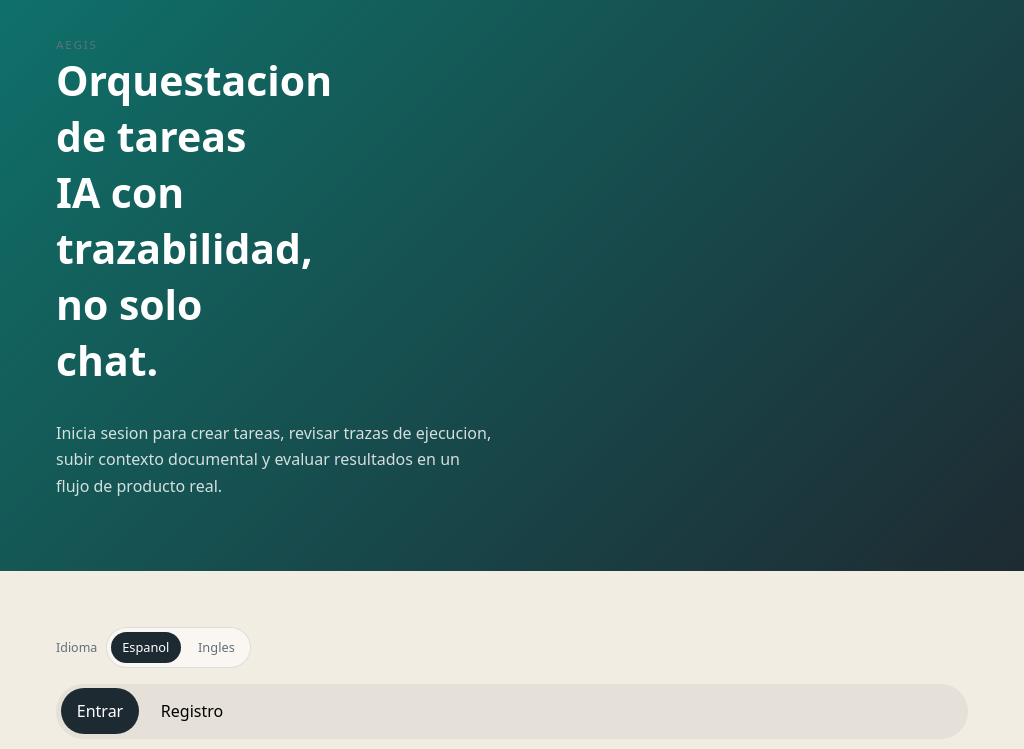
AuthPage › shows friendly validation errors for signup 422 responses
Click the button "Registro": x=192, y=711 top-left (145, 688), bottom-right (239, 734)
(page scrolled)
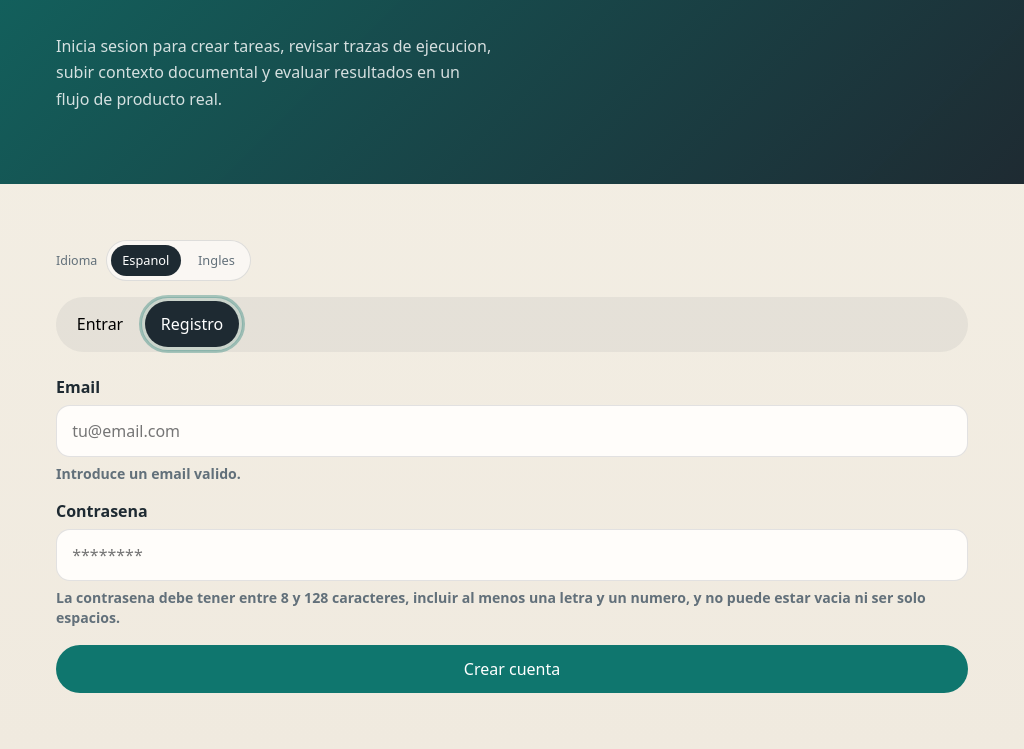
In the field labelled "Email Introduce un email valido.": x=512, y=431 top-left (56, 405), bottom-right (968, 457), type "valid@example.com"
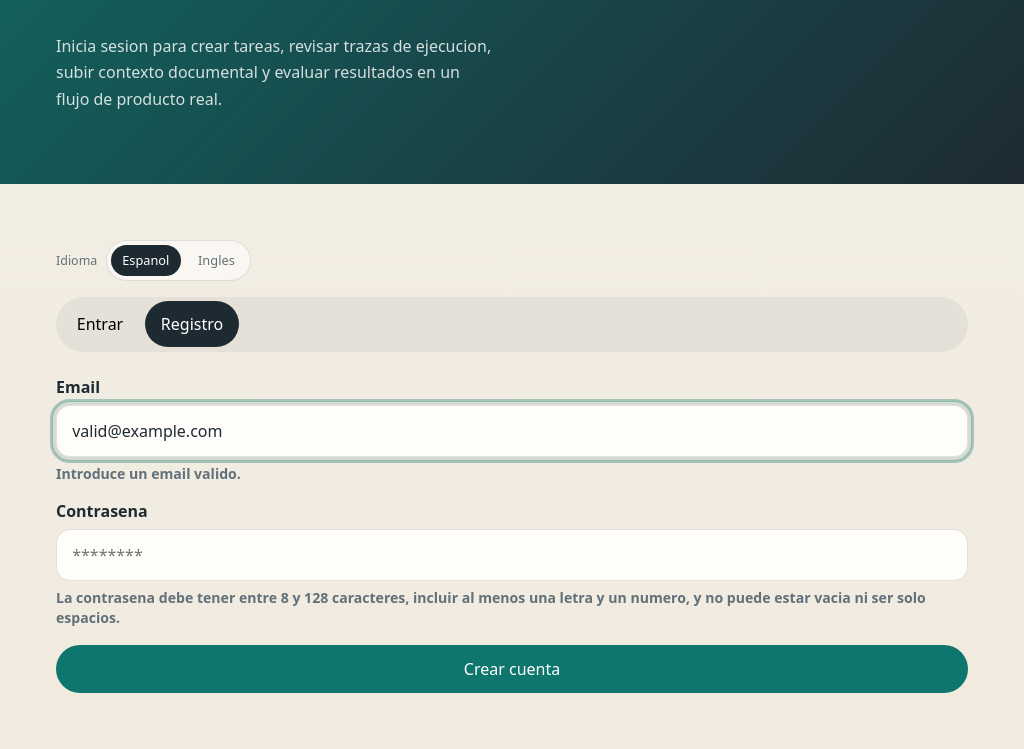
In the password field labelled "Contrasena": x=512, y=555 top-left (56, 529), bottom-right (968, 581), type "Valid1234"
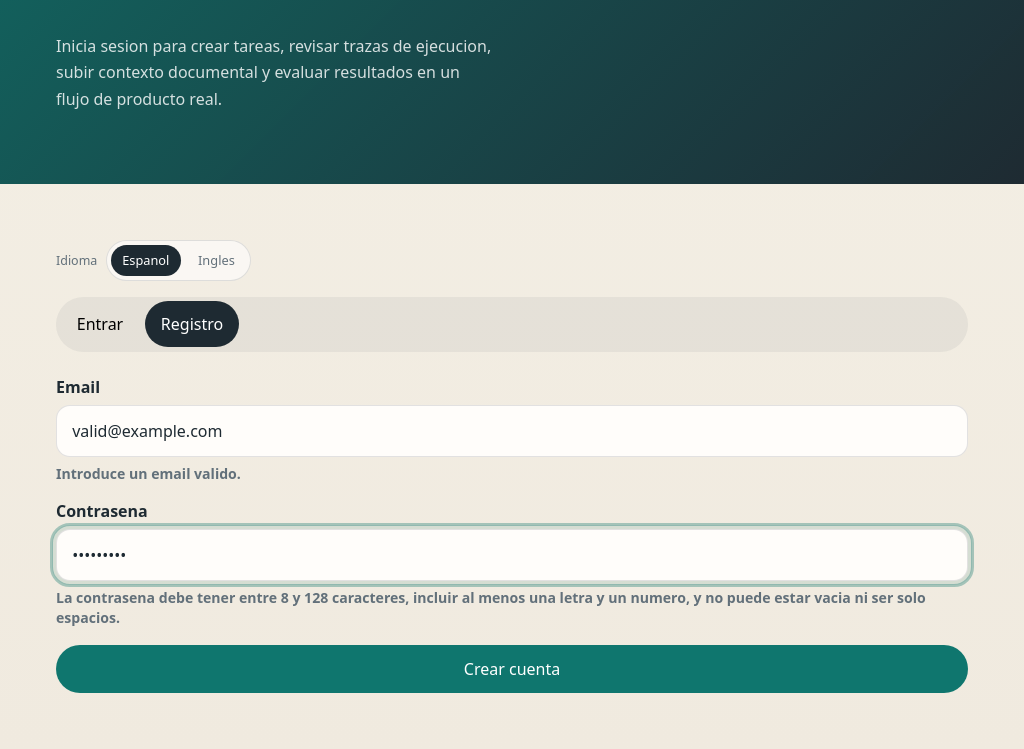
Click the button "Crear cuenta": x=512, y=669 top-left (56, 645), bottom-right (968, 693)
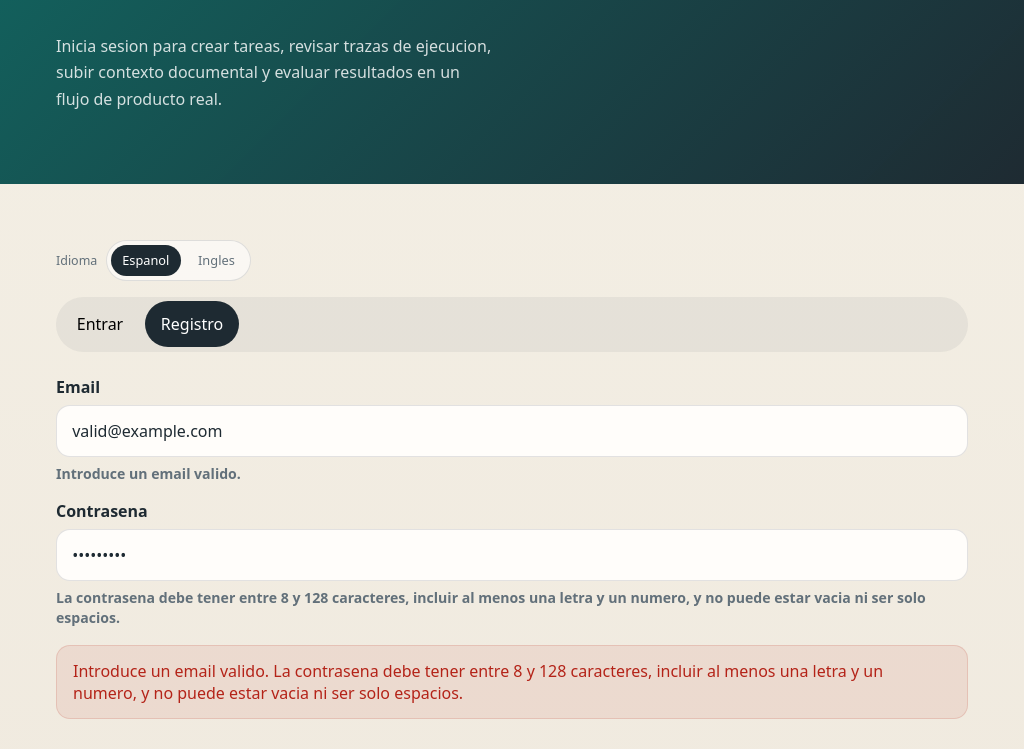
Result: the message shows "Introduce un email valido. La contrasena debe tener entre 8 y 128 caracteres, incluir al menos una letra y un numero, y no puede estar vacia ni ser solo espacio" at top-left (73, 660), bottom-right (883, 704)
